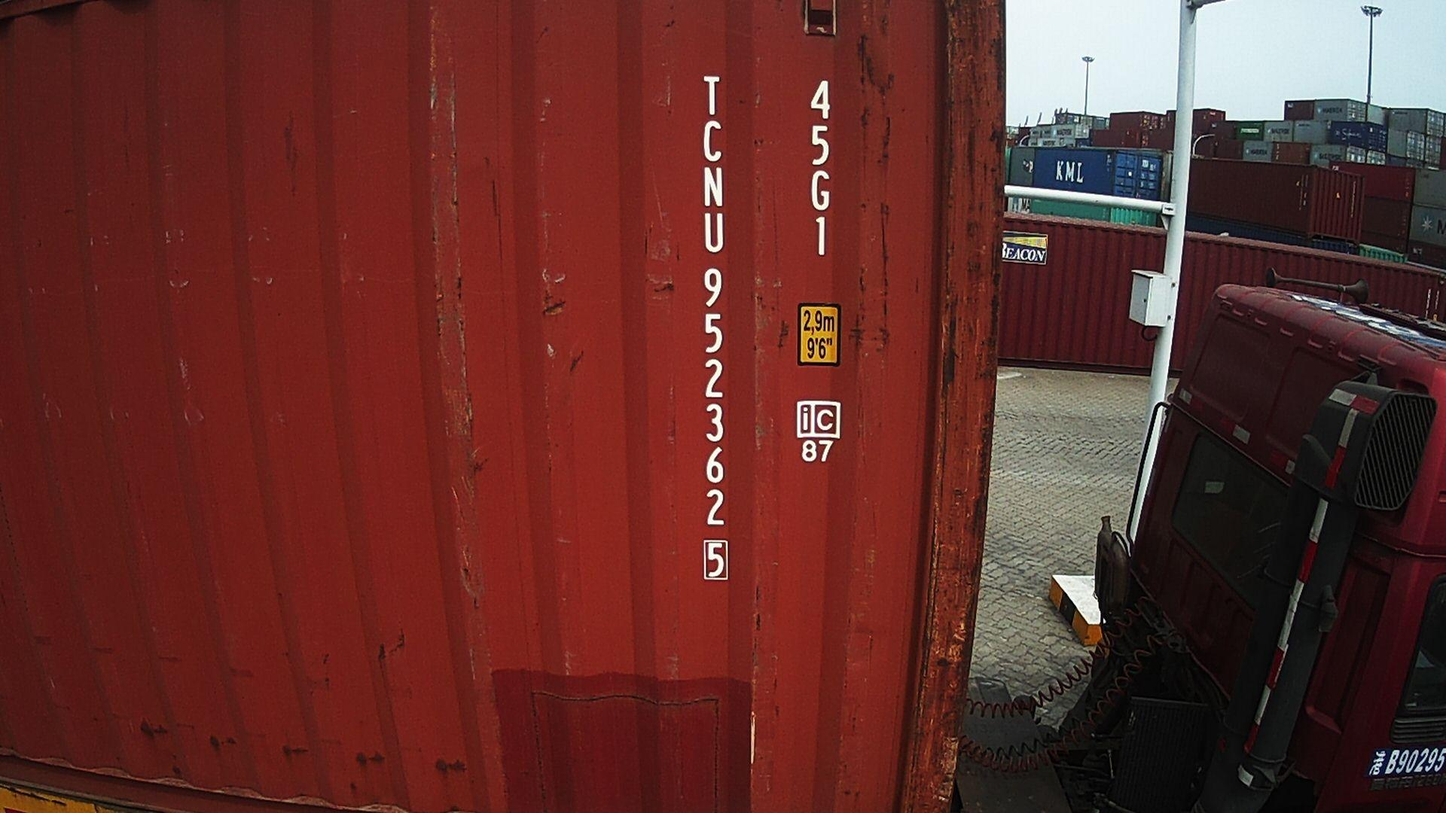container-numbers: (690, 69, 733, 586), (804, 77, 839, 260)
